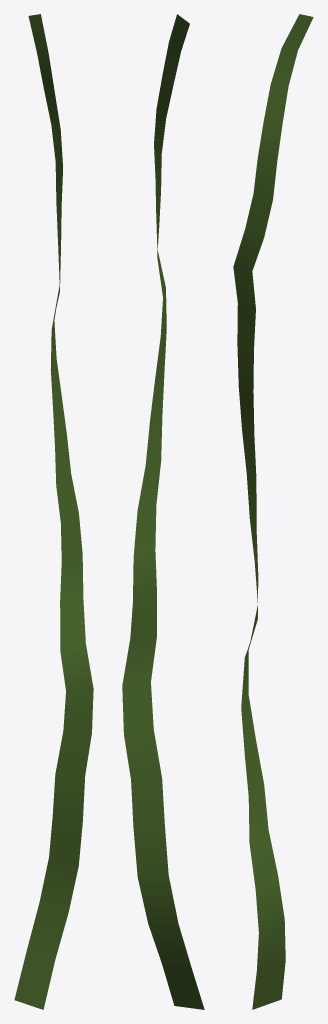
Rendered from plant_swamp_kelp_long_solo_H.fbx.
3 views of the same model, side by side, from view 1: azimuth 30°, elevation 25°; view 2: azimuth 210°, elevation 25°; view 3: azimuth 270°, elevation 25° (orthographic). The views are drawn at different scales.
Parts seen in each view (by area): view 1: plant_swamp_kelp_long_solo_H; view 2: plant_swamp_kelp_long_solo_H; view 3: plant_swamp_kelp_long_solo_H.
Boxes of the visible parts, x1,y1,x2,y2 form: plant_swamp_kelp_long_solo_H: [14, 14, 93, 1009]; plant_swamp_kelp_long_solo_H: [122, 14, 204, 1009]; plant_swamp_kelp_long_solo_H: [233, 14, 313, 1009].
Bounding box in the file's own units: 17.75 × 277 × 20.04.
